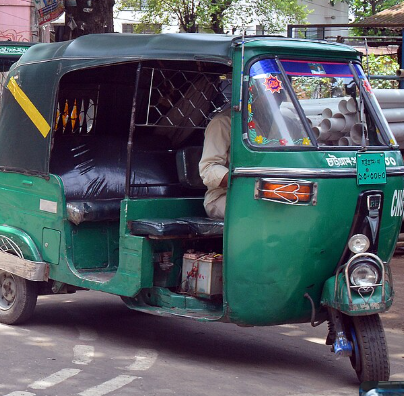cng: (1, 26, 403, 391)
